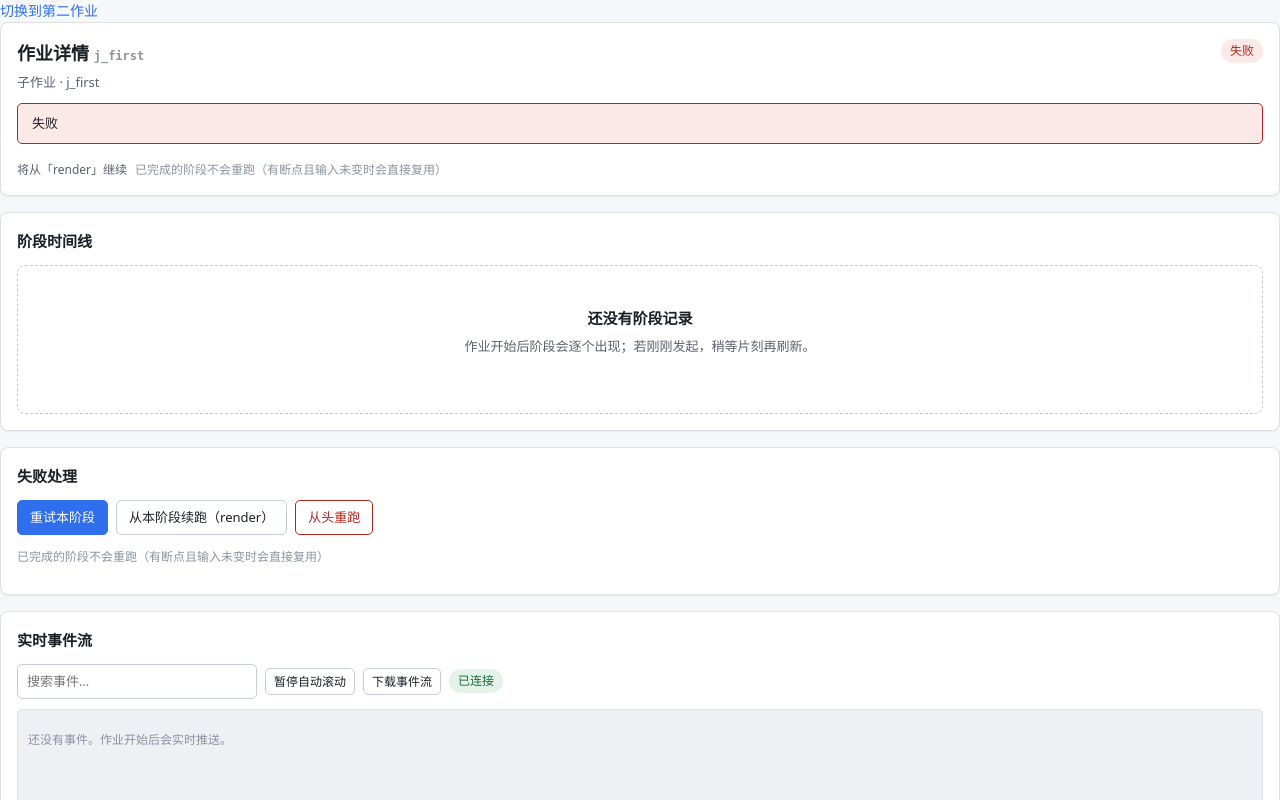
作业详情操作与最终产物 › 已失败的操作错误不会带入另一缓存作业
This screenshot has width=1280, height=800.
Click the button "重试本阶段" at (62, 517), box x1=17 y1=500 x2=108 y2=535
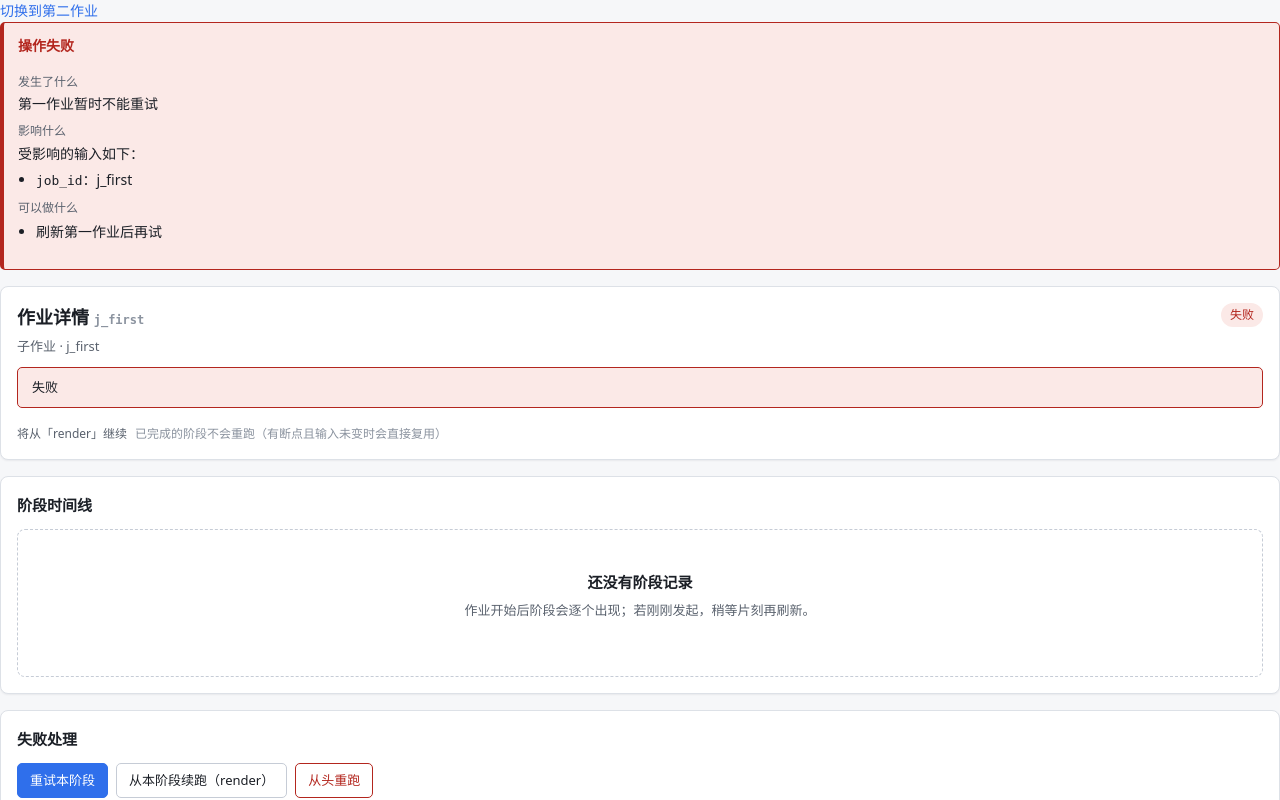
Result: the message "操作失败 发生了什么 第一作业暂时不能重试 影响什么 受影响的输入如下： job_id：j_first 可以做什么 刷新第一作业后再试" is shown at x1=0 y1=22 x2=1279 y2=270
Click the link "切换到第二作业" at (49, 10), box x1=0 y1=1 x2=98 y2=20
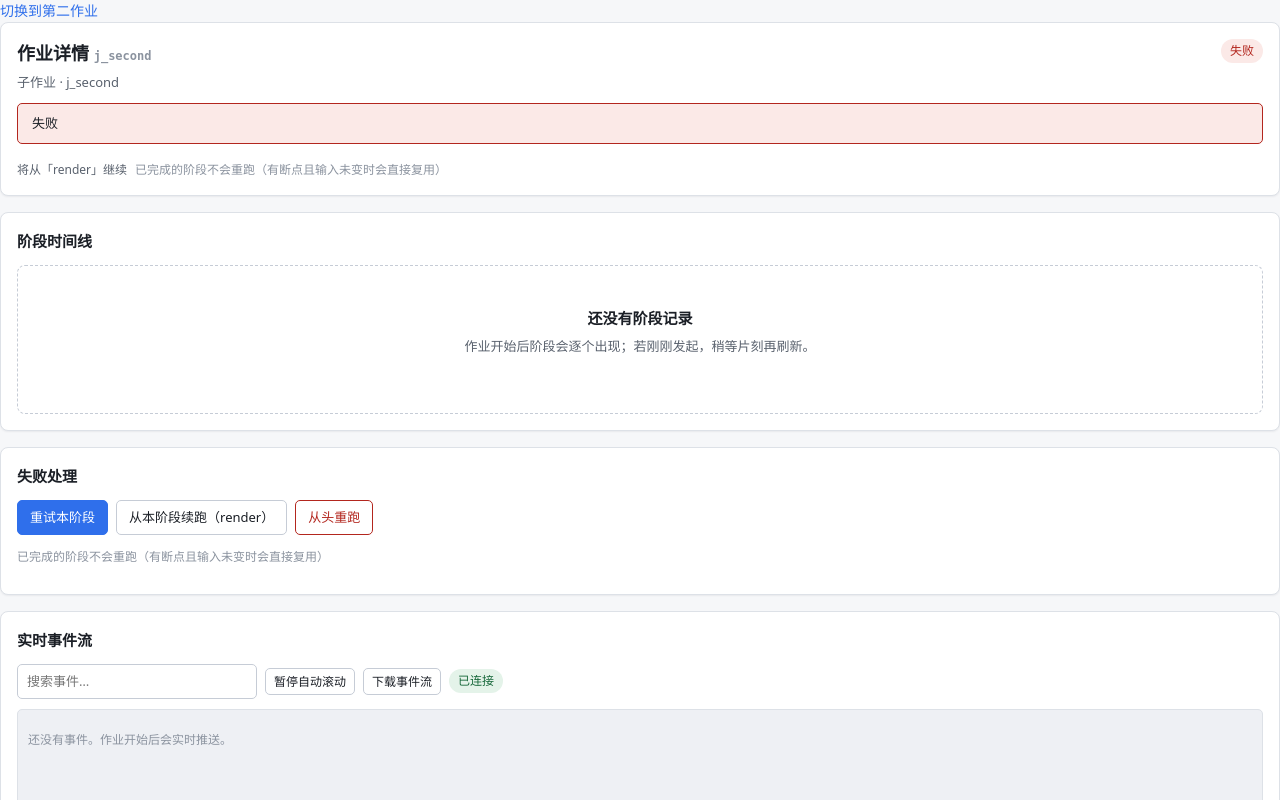
Expected: the button "重试本阶段" is enabled, x1=17 y1=500 x2=108 y2=535
Result: the heading "作业详情 j_second" is shown at x1=17 y1=39 x2=152 y2=68
Result: the message "操作失败 发生了什么 第一作业暂时不能重试 影响什么 受影响的输入如下： job_id：j_first 可以做什么 刷新第一作业后再试" is gone
